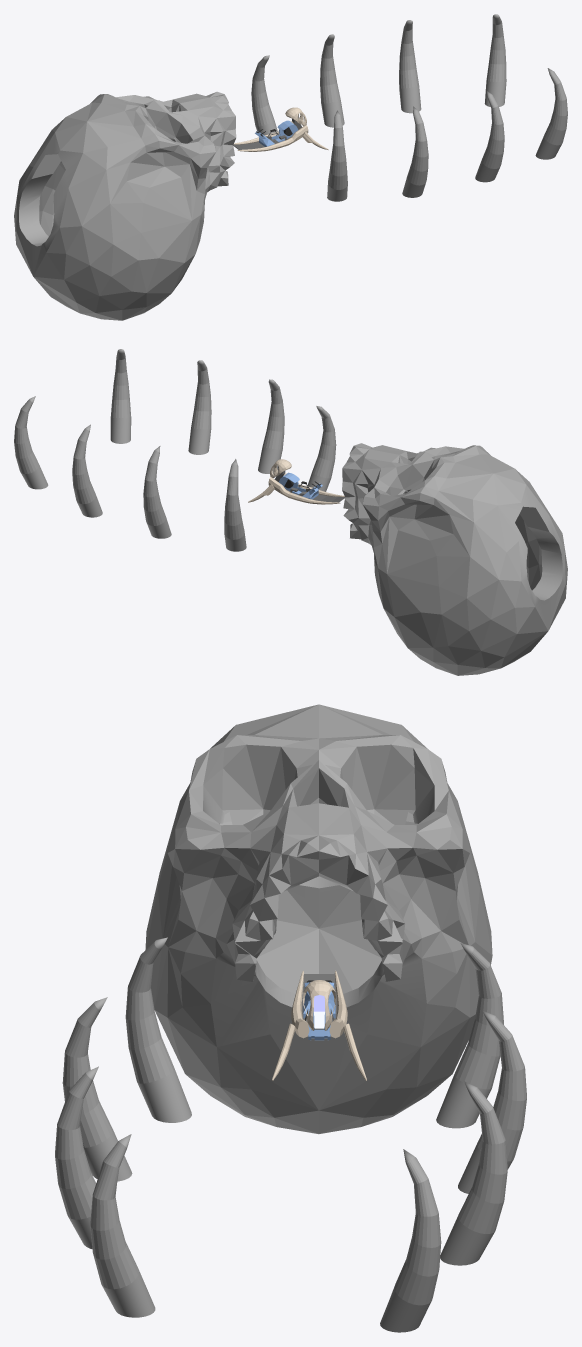
The model's file is GiantSkeleton.fbx.
3 views of the same model, one above another, from view 1: azimuth 30°, elevation 25°; view 2: azimuth 150°, elevation 25°; view 3: azimuth 270°, elevation 25° (orthographic). The views are drawn at different scales.
Parts seen in each view (by area): view 1: skull_low_poly:Group17422, polySurface11, SkaterLowPoly; view 2: skull_low_poly:Group17422, polySurface11, SkaterLowPoly; view 3: skull_low_poly:Group17422, polySurface11, SkaterLowPoly.
Part boxes in pixels (x1=…): skull_low_poly:Group17422: x1=14, y1=91, x2=236, y2=320; polySurface11: x1=251, y1=14, x2=567, y2=201; SkaterLowPoly: x1=233, y1=107, x2=328, y2=151; skull_low_poly:Group17422: x1=342, y1=443, x2=567, y2=675; polySurface11: x1=14, y1=349, x2=336, y2=551; SkaterLowPoly: x1=248, y1=459, x2=344, y2=504; skull_low_poly:Group17422: x1=145, y1=704, x2=492, y2=1134; polySurface11: x1=55, y1=937, x2=526, y2=1332; SkaterLowPoly: x1=272, y1=970, x2=366, y2=1080.
Size of the model in its own units: 3147 by 1211 by 1287.
